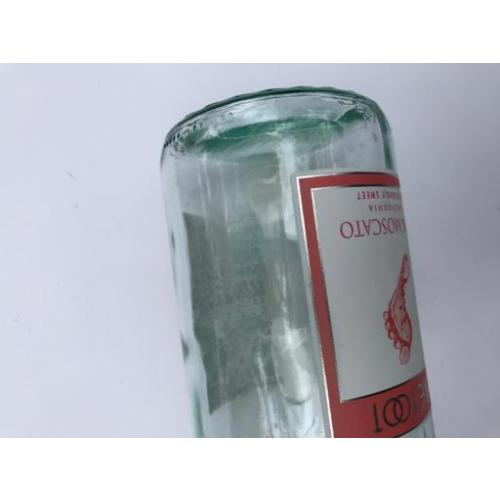glass: (163, 92, 431, 435)
